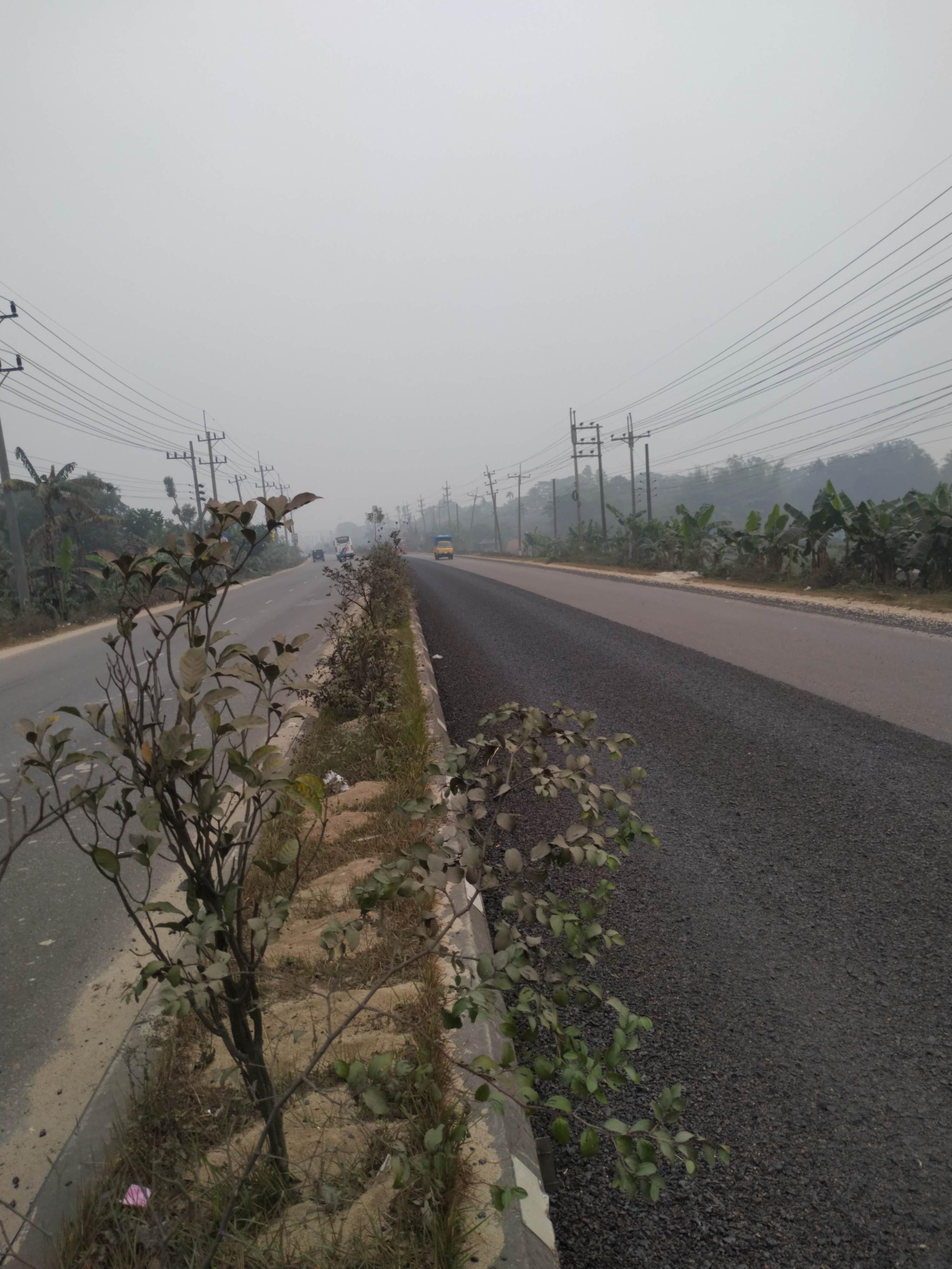Bus: (314, 516, 366, 566)
Truck: (415, 523, 479, 569)
